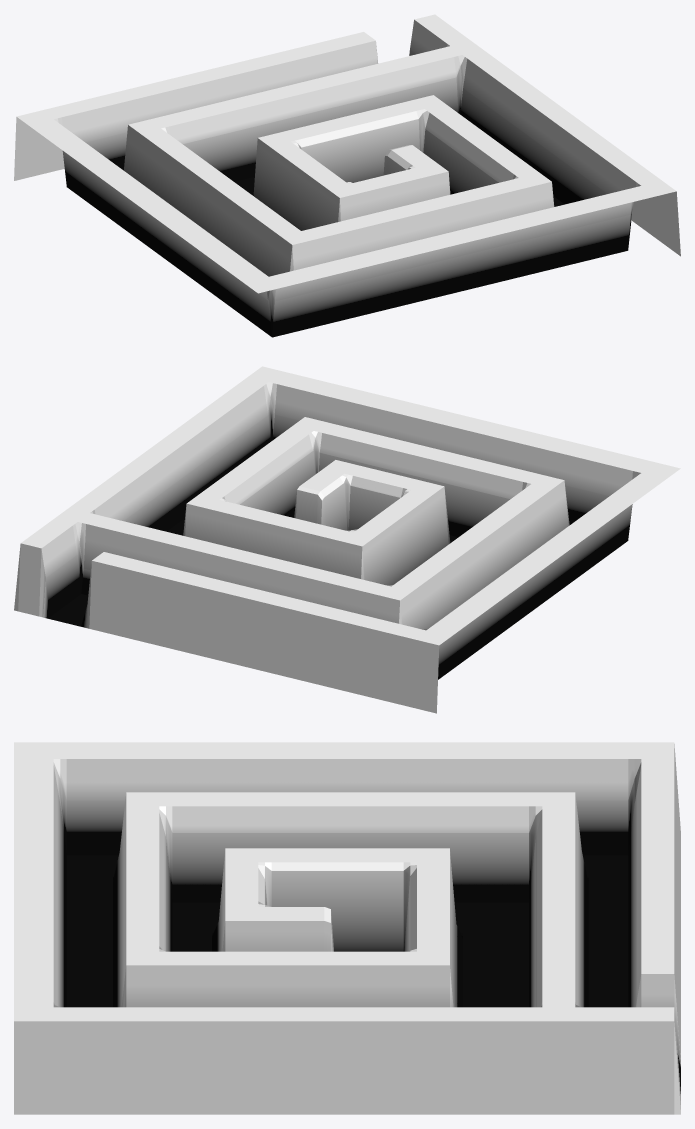
The model's file is Level1.fbx.
3 views of the same model, one above another, from view 1: azimuth 30°, elevation 25°; view 2: azimuth 150°, elevation 25°; view 3: azimuth 270°, elevation 25° (orthographic). The views are drawn at different scales.
Visible parts, largest first — view 1: Level1; view 2: Level1; view 3: Level1.
Part boxes in pixels (<box>): Level1: <box>14,14,680,337</box>; Level1: <box>14,366,680,713</box>; Level1: <box>14,742,680,1114</box>.
Size of the model in its own units: 100 by 15 by 100.
